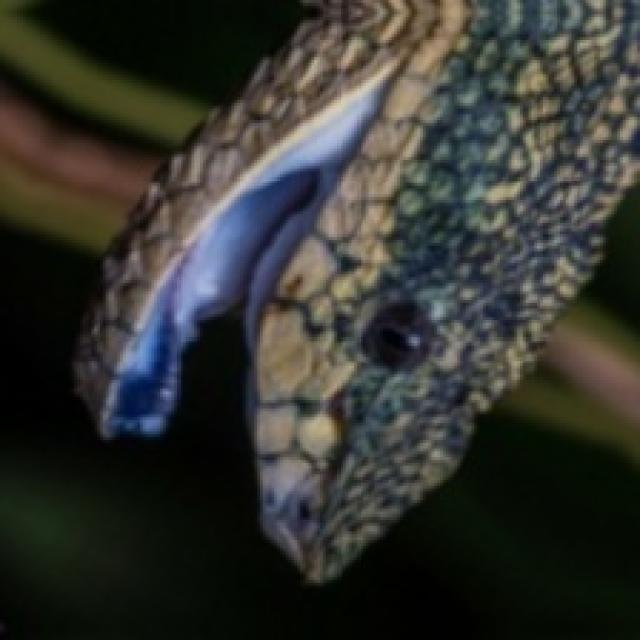north ph temple pitviper: (74, 0, 637, 580)
